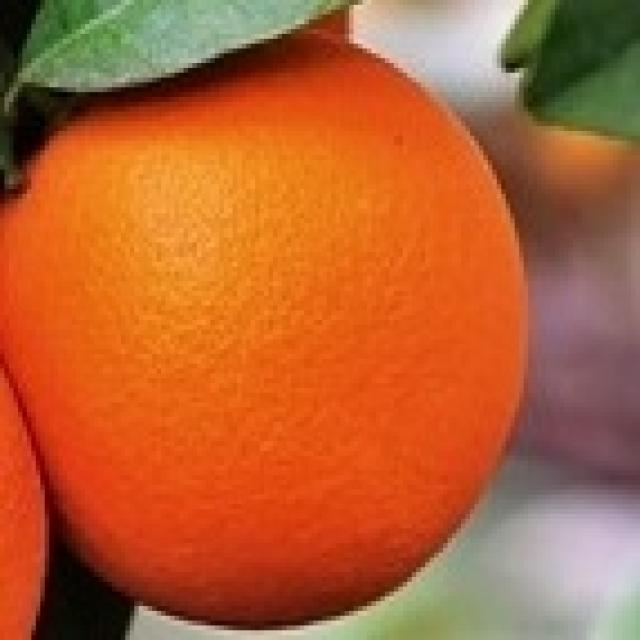Orange: (8, 62, 550, 616)
